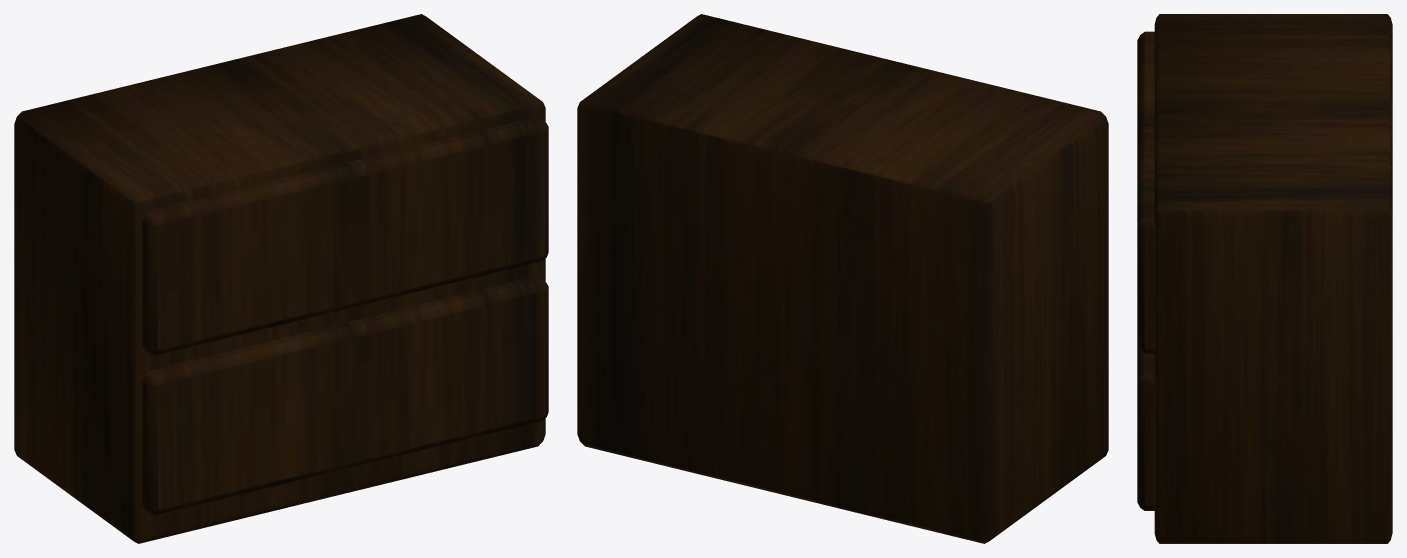
Rendered from Side table.FBX.
3 views of the same model, side by side, from view 1: azimuth 30°, elevation 25°; view 2: azimuth 150°, elevation 25°; view 3: azimuth 270°, elevation 25° (orthographic). The views are drawn at different scales.
Visible parts, largest first — view 1: Side table; view 2: Side table; view 3: Side table.
Boxes of the visible parts, x1,y1,x2,y2 form: Side table: (14, 14, 548, 543); Side table: (577, 14, 1108, 543); Side table: (1137, 14, 1392, 543).
Bounding box in the file's own units: 83.49 × 66.73 × 45.47.
1 material, 1 textured.
